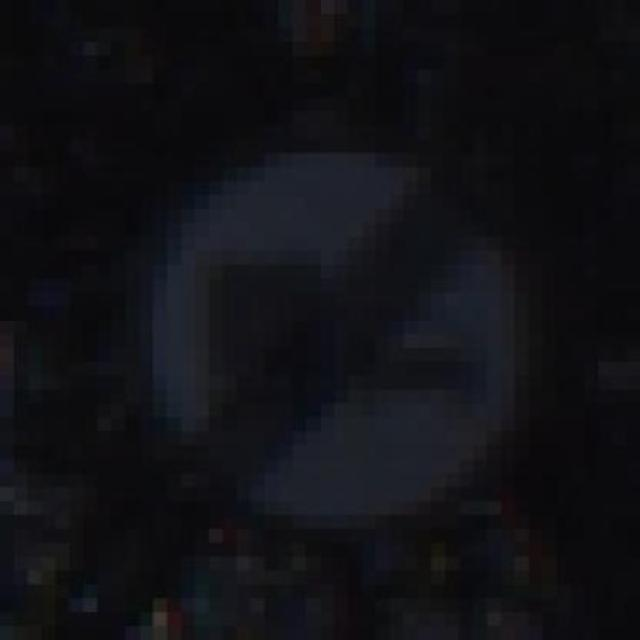Overtaking by trucks is prohibited: (97, 97, 529, 571)
